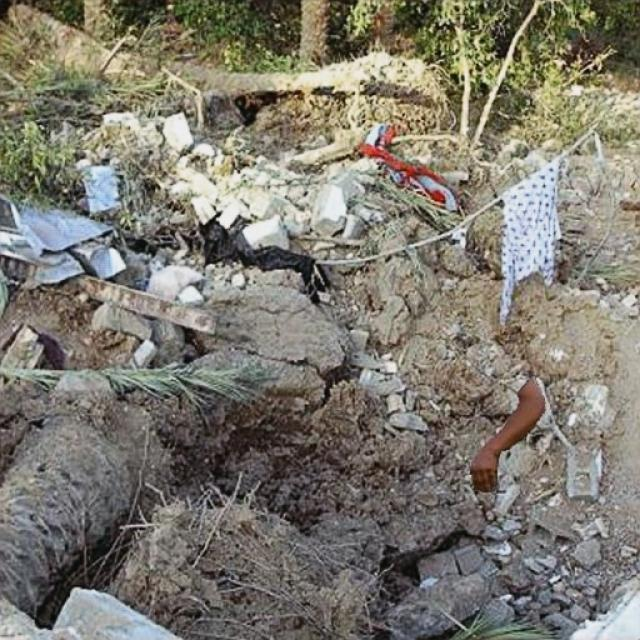Person in Rubble: (470, 376, 545, 492)
